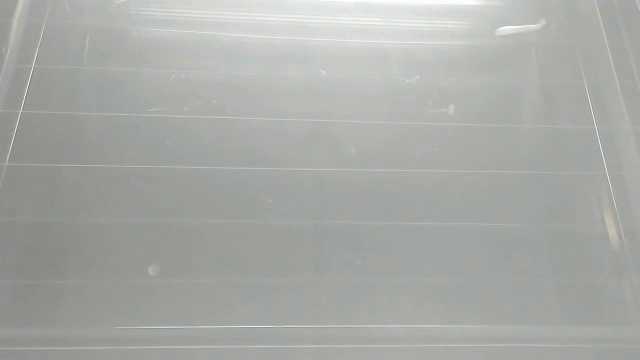alpha: (489, 18, 550, 40), (140, 258, 168, 281)
